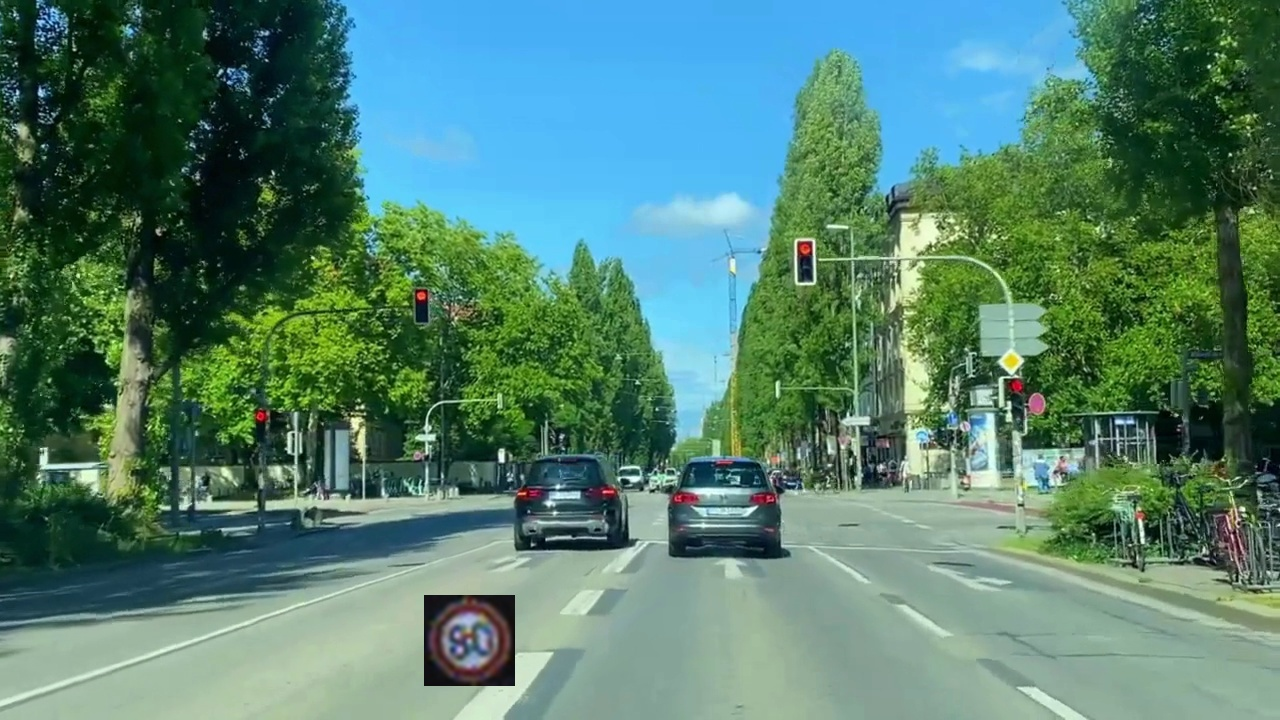Speed 80: (424, 595, 515, 686)
